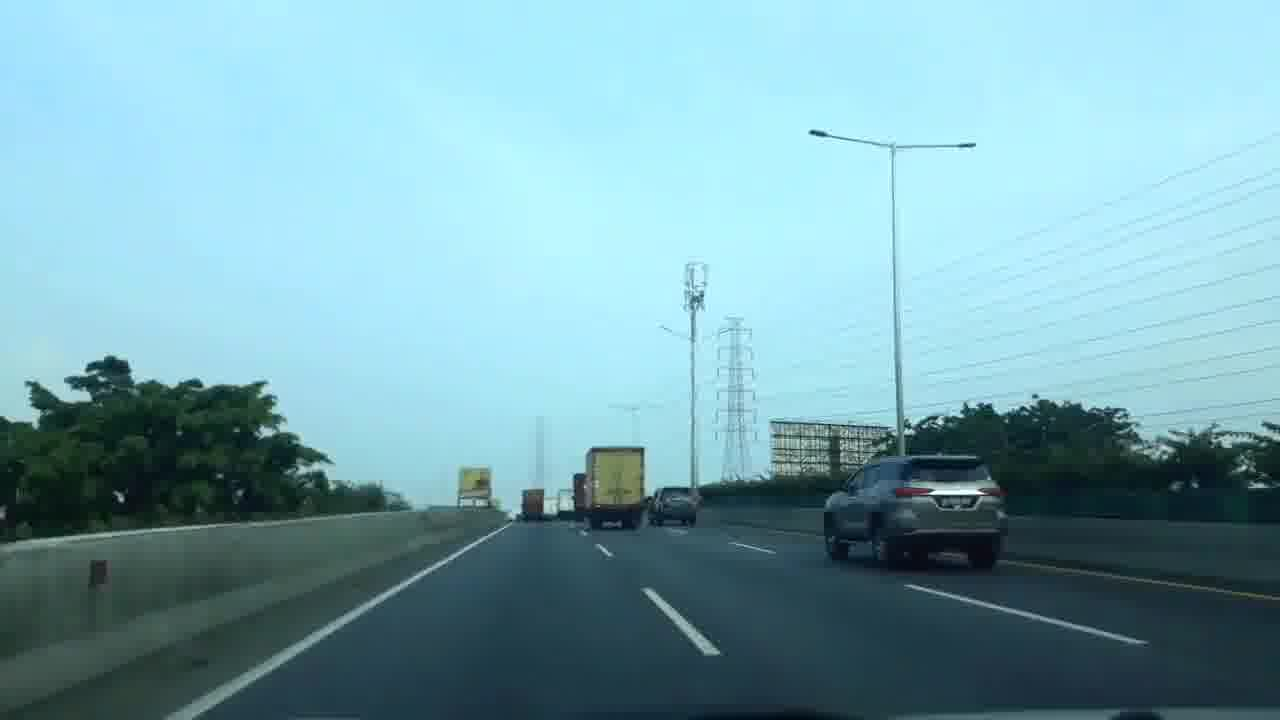plate_positive: (940, 496, 975, 507)
